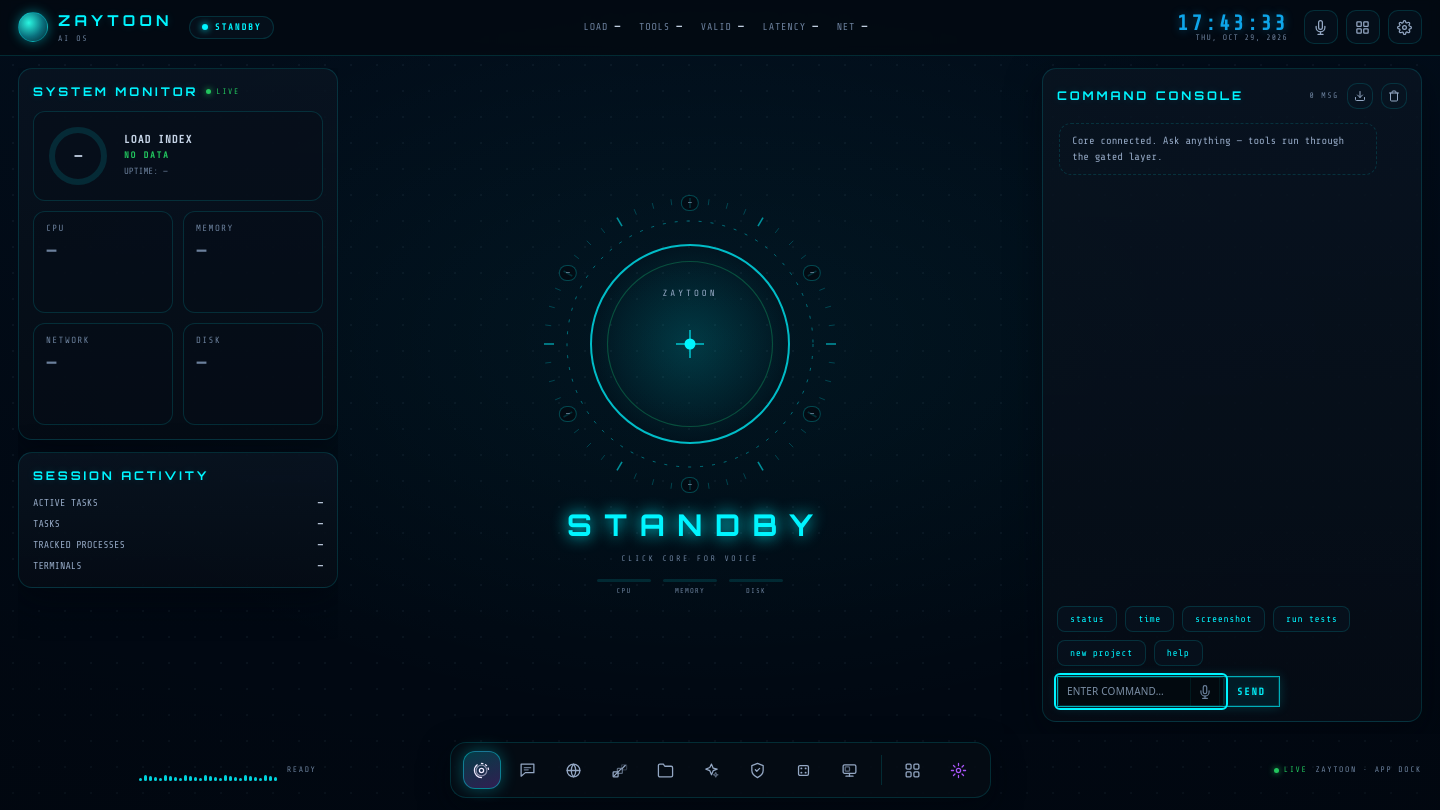
Test: NexusDashboard › offers the three onboarding actions in the launchpad, and only three
Click the button named "All commands" next to "17:43:33" at (1363, 27), box [1346, 10, 1380, 44]
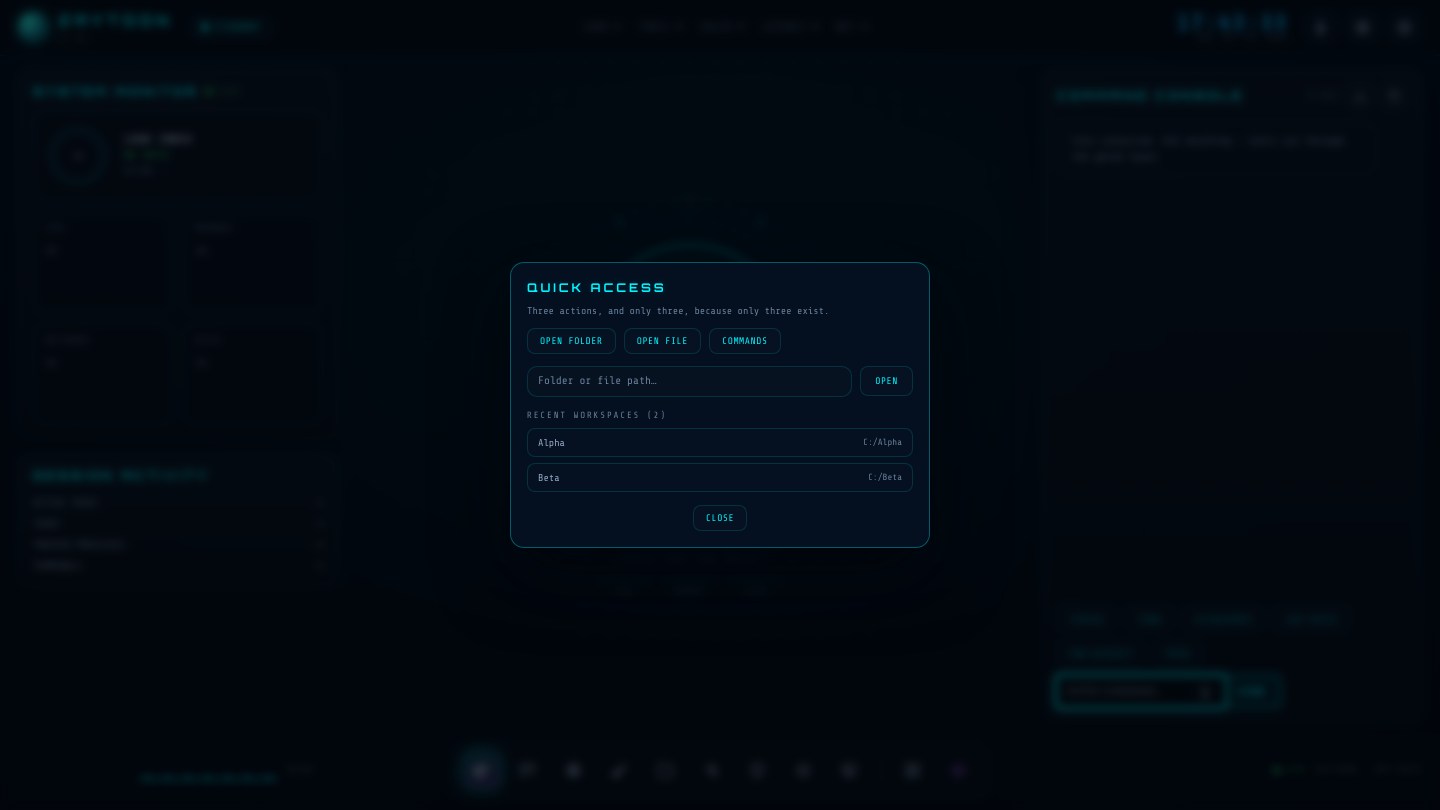
Check: the button "OPEN FOLDER" is shown, box [527, 328, 616, 354]
Check: the button "OPEN FILE" is shown, box [624, 328, 701, 354]
Check: the button "COMMANDS" is shown, box [709, 328, 781, 354]
